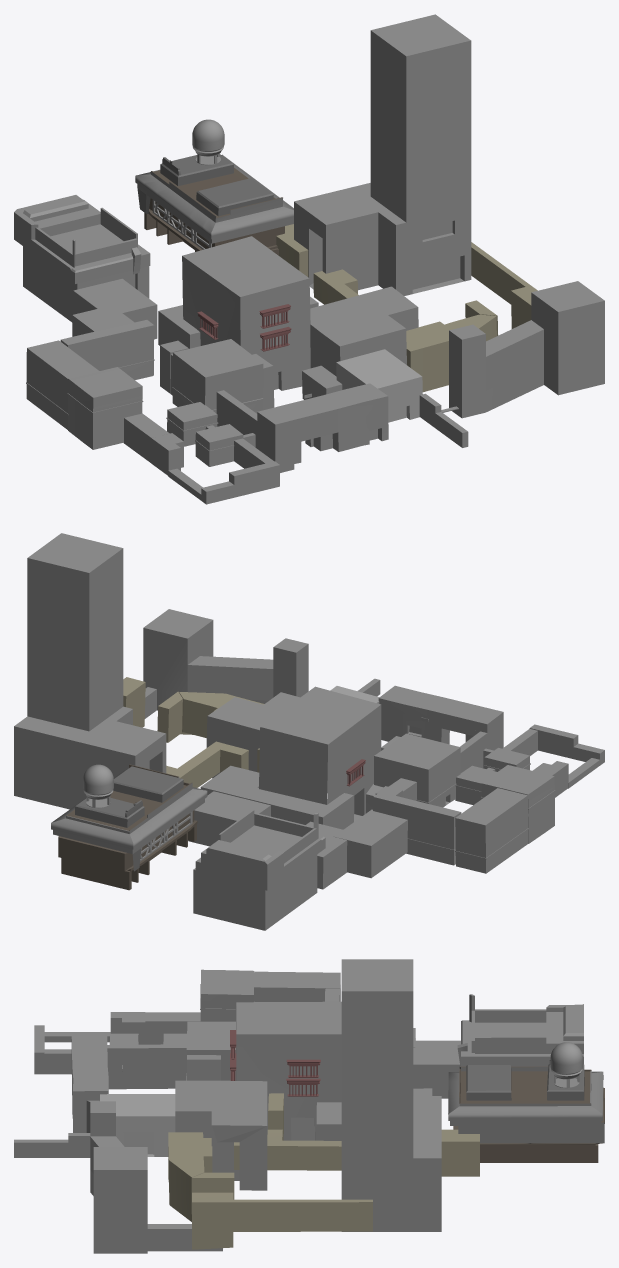
File: full.fbx
The picture shows the model from 3 angles, top to bottom: view 1: azimuth 30°, elevation 25°; view 2: azimuth 150°, elevation 25°; view 3: azimuth 270°, elevation 25°; orthographic projection. The views are drawn at different scales.
Parts seen in each view (by area): view 1: pCube39, pCube30, polySurface58, polySurface62, pCube41, pasted__polySurface33, polySurface55, polySurface60, pasted__pasted__polySurface44, pasted__pasted__pasted__pCube29 (×2), polySurface44, polySurface49 (+14 smaller); view 2: pCube39, polySurface62, pCube41, polySurface58, pCube30, pasted__pasted__pasted__pCube29 (×3), pasted__polySurface33, pasted__polySurface44, polySurface60, polySurface44, pasted__pasted__pCube29, polySurface55 (+10 smaller); view 3: pCube39, polySurface62, polySurface58, pCube30, polySurface55, pasted__polySurface33 (×2), polySurface52, pCube41, polySurface49, pasted__pasted__pasted__pCube29 (×2), polySurface53, polySurface54 (+10 smaller).
Part boxes in pixels (x1,y1,x2,y2): pCube39: (294,14,471,295); pCube30: (449,281,604,418); polySurface58: (182,236,310,390); polySurface62: (135,119,293,255); pCube41: (14,195,150,322); pasted__polySurface33: (216,383,388,472); polySurface55: (310,286,418,376); polySurface60: (172,339,263,413); pasted__pasted__polySurface44: (67,367,143,449); pasted__pasted__pasted__pCube29 (×2): (73,278,318,348); polySurface44: (60,320,154,379); polySurface49: (336,349,422,422); pCube39: (14,533,166,809); polySurface62: (51,764,207,890); pCube41: (193,809,325,930); polySurface58: (259,686,381,821); pCube30: (143,609,308,718); pasted__pasted__pasted__pCube29 (×3): (188,765,353,889); pasted__polySurface33: (378,685,503,772); pasted__polySurface44: (455,788,528,873); polySurface60: (374,733,460,807); polySurface44: (373,792,461,865); pasted__pasted__pCube29: (334,809,407,878); polySurface55: (206,692,299,778); pCube39: (341,959,441,1231); polySurface62: (448,1042,604,1162); polySurface58: (236,1001,341,1140); pCube30: (90,1101,222,1253); polySurface55: (175,1080,267,1190); pasted__polySurface33 (×2): (71,1035,220,1132); polySurface52: (192,1192,372,1249); pCube41: (457,994,583,1066); polySurface49: (100,1094,175,1156); pasted__pasted__pasted__pCube29 (×2): (316,1040,460,1140); polySurface53: (234,1093,341,1170); polySurface54: (168,1132,212,1221).
Bounding box in the file's own units: 494 × 271 × 548.
